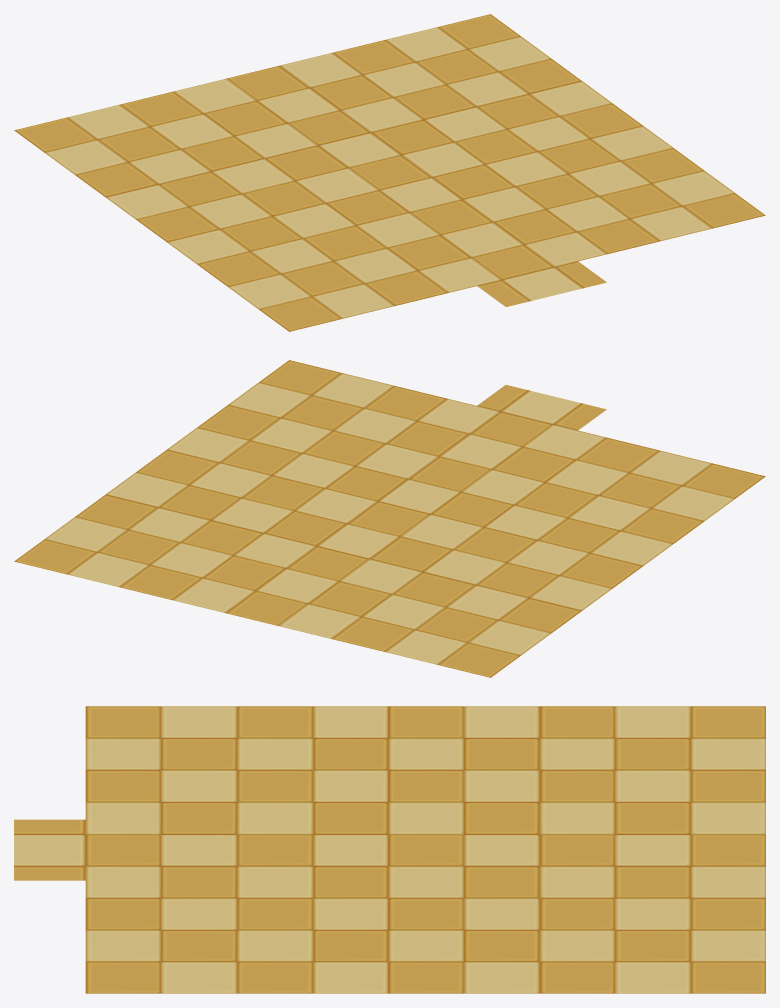
The model's file is Floor04_c01.FBX.
3 views of the same model, one above another, from view 1: azimuth 30°, elevation 25°; view 2: azimuth 150°, elevation 25°; view 3: azimuth 270°, elevation 25° (orthographic). The views are drawn at different scales.
Parts seen in each view (by area): view 1: Floor04_c01; view 2: Floor04_c01; view 3: Floor04_c01.
Boxes of the visible parts, x1,y1,x2,y2 form: Floor04_c01: (14,14,765,331); Floor04_c01: (14,360,765,677); Floor04_c01: (14,706,765,993).
Size of the model in its own units: 900 by 0.000446 by 995.
Materials: 1 (1 with a texture image).
